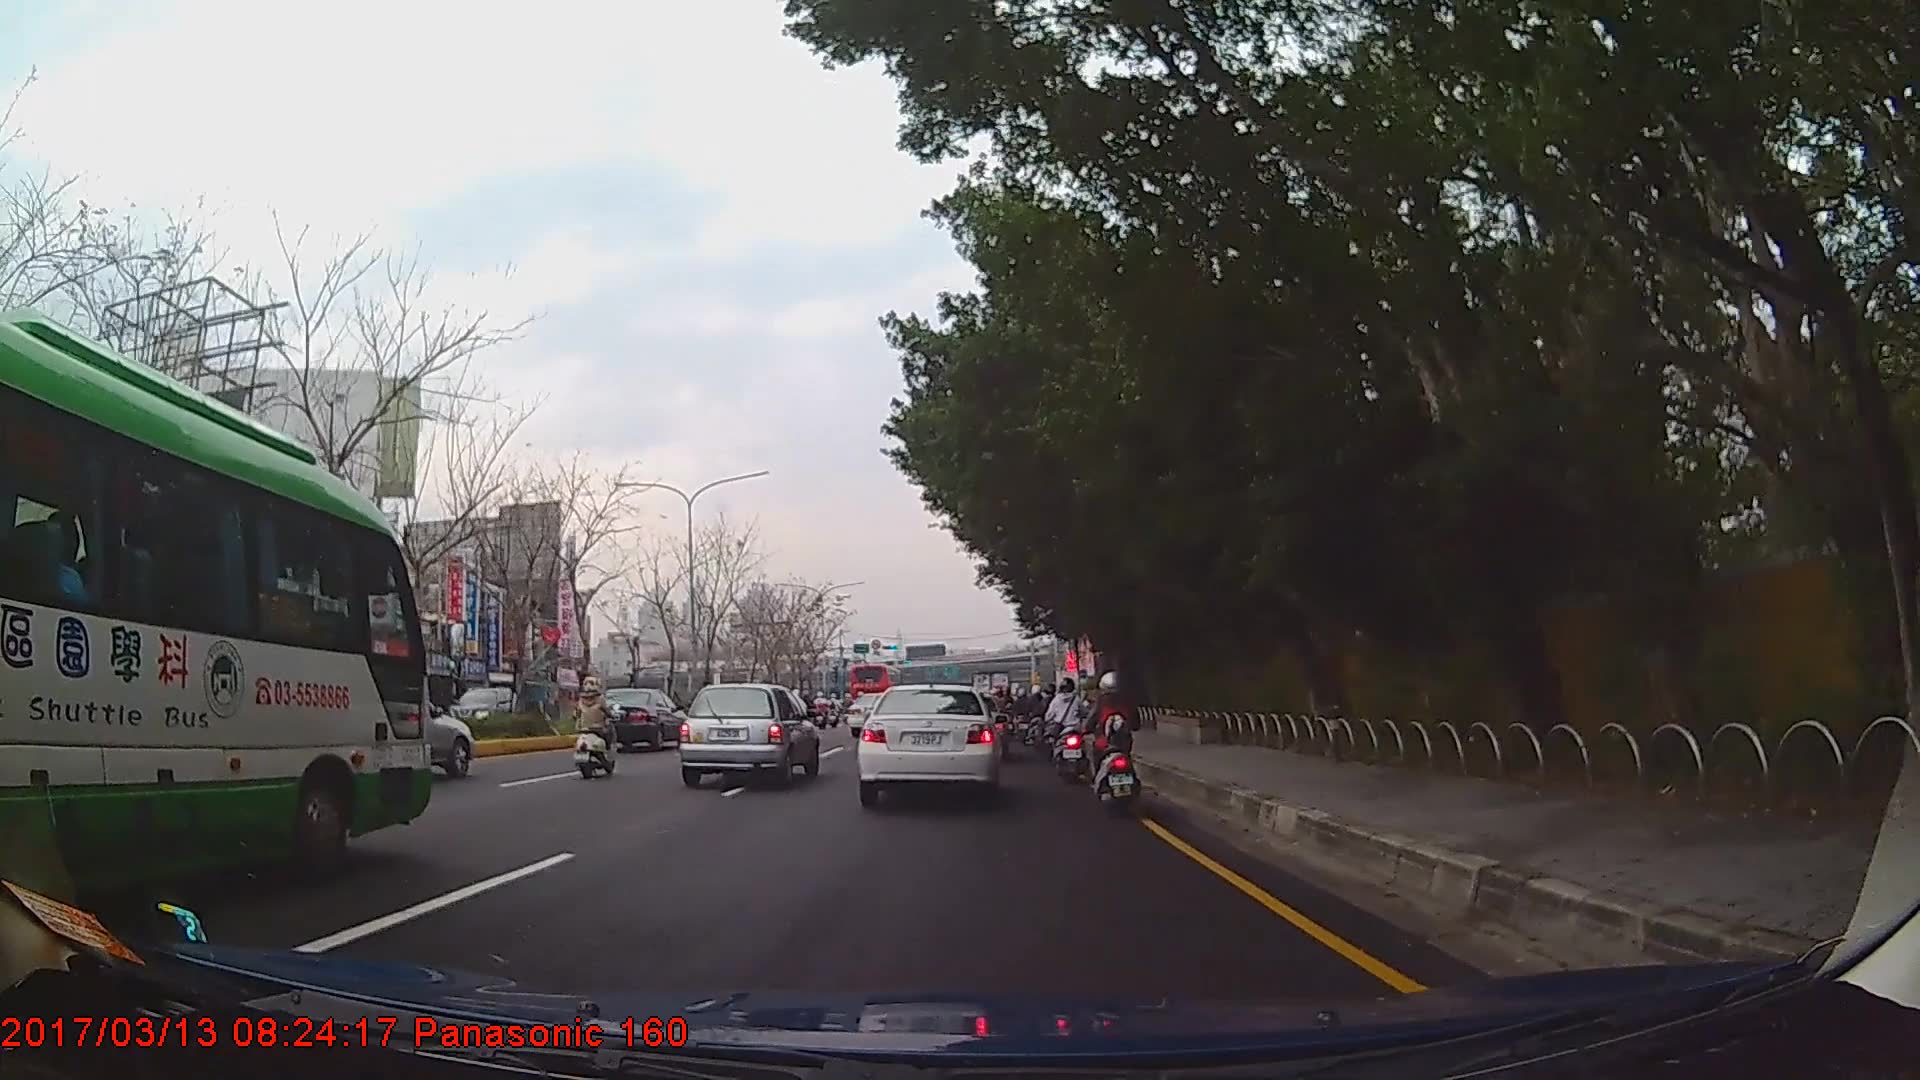rider: (1085, 669, 1148, 818), (1049, 678, 1092, 784), (576, 678, 618, 780), (1041, 681, 1063, 751)
vehicle: (0, 295, 435, 908), (854, 680, 1002, 801), (676, 681, 819, 788), (578, 685, 693, 752), (444, 684, 524, 736), (847, 657, 900, 709)
